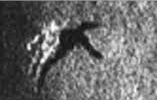man: (23, 14, 72, 96)
